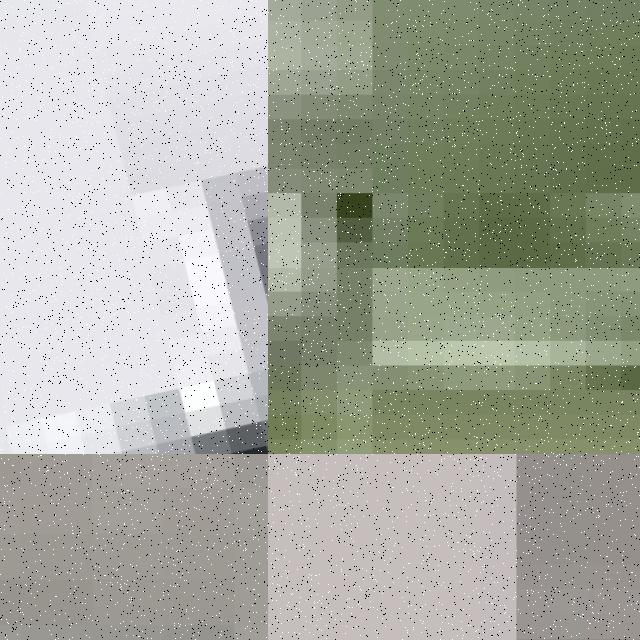drone: (0, 0, 268, 454)
